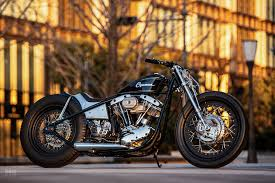motorcycle: (15, 55, 247, 170)
